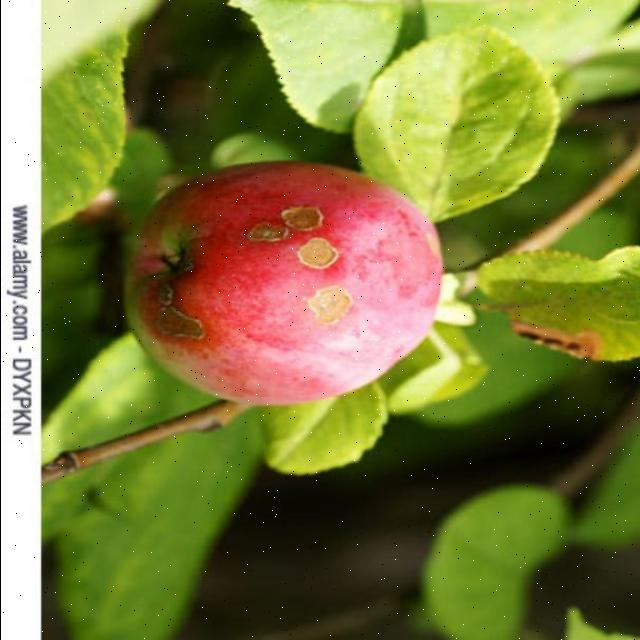SCAB: (116, 148, 472, 424)
